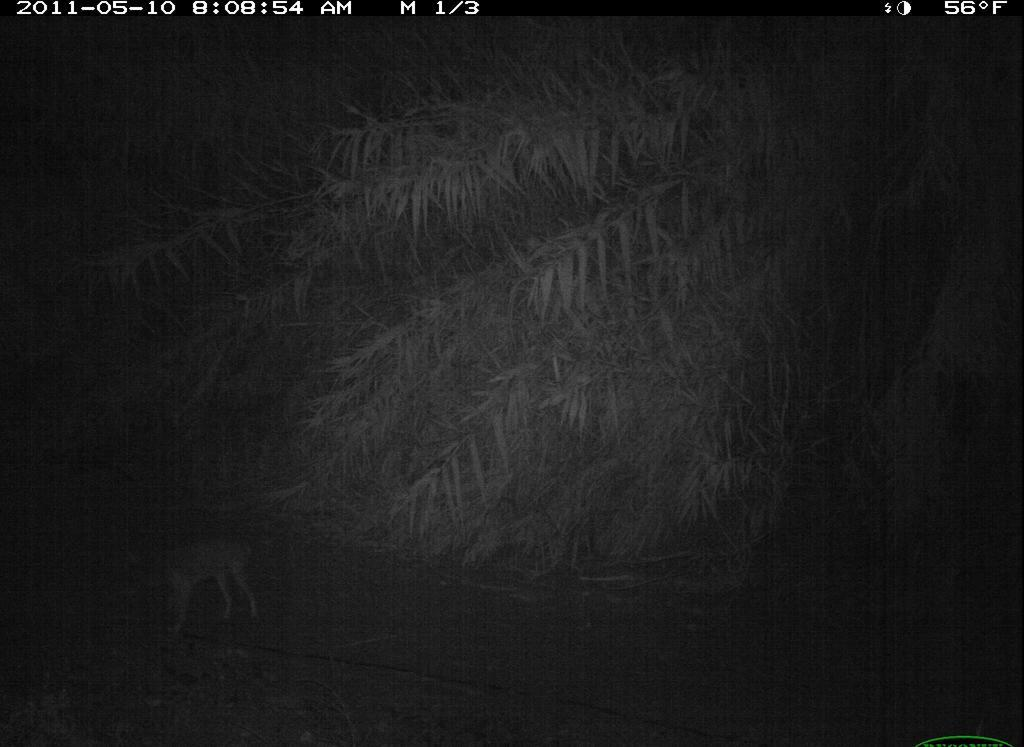coyote: (122, 524, 281, 644)
